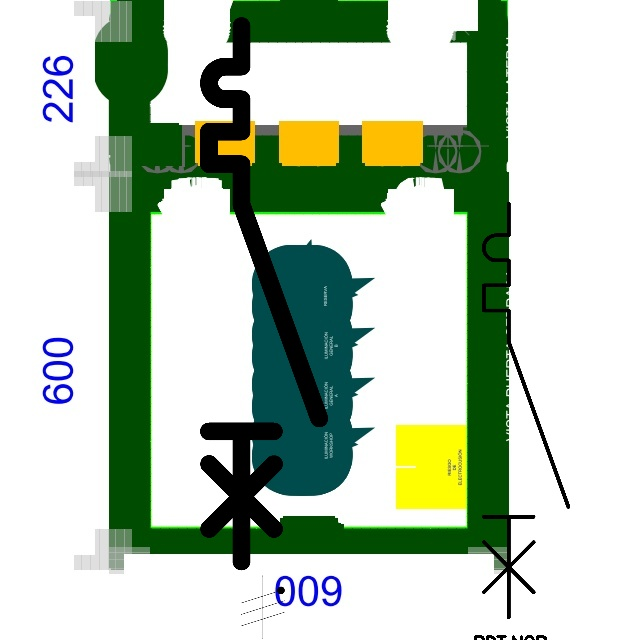interruptor_termomagnetico: (195, 12, 333, 575), (473, 193, 579, 627)
